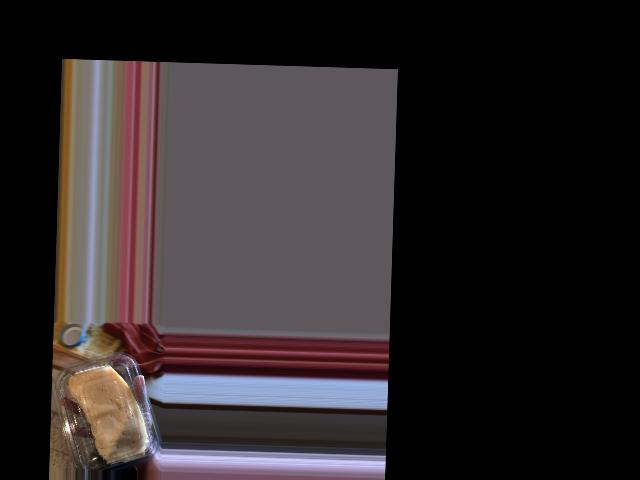cheese: (55, 349, 157, 472)
